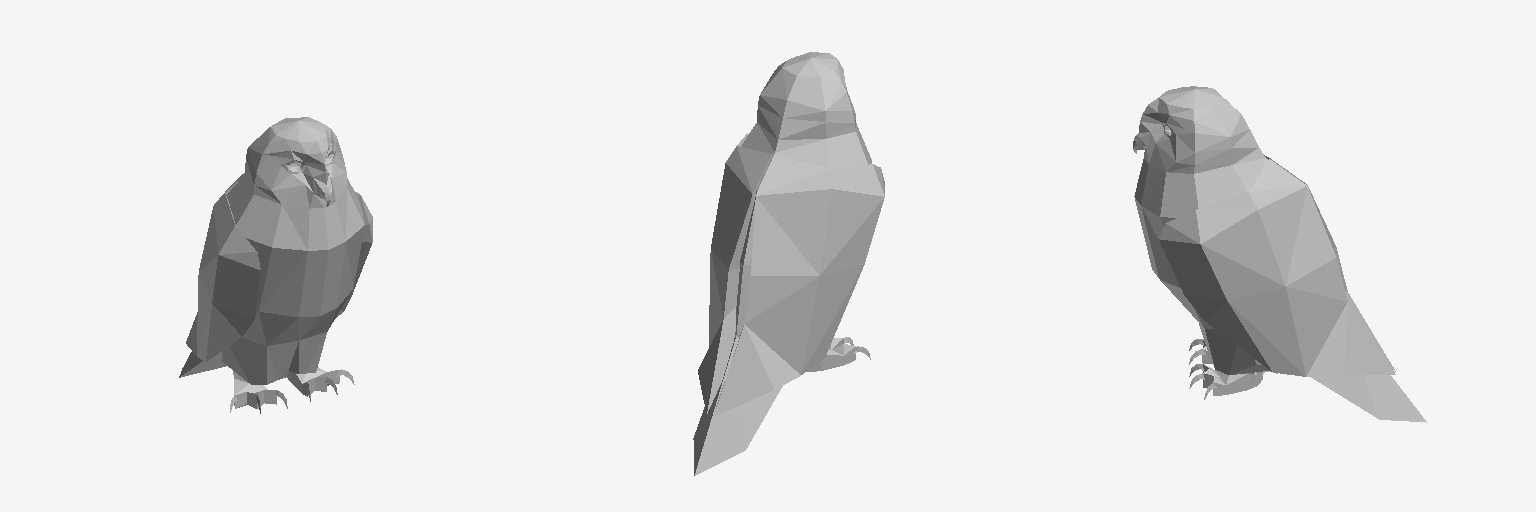
The model's file is snowyOwl_static.obj.
3 views of the same model, side by side, from view 1: azimuth 30°, elevation 25°; view 2: azimuth 150°, elevation 25°; view 3: azimuth 270°, elevation 25° (orthographic).
Parts seen in each view (by area): view 1: Owl1 Owl_Base Head2, wing_down_1 Owl1 wing_down_3, Owl1 foot feet1, Owl1 feet1 foot1, wing_down_5 wing_down_1 Owl1; view 2: wing_down_1 Owl1 wing_down_3, Owl1 Owl_Base Head2, wing_down_5 wing_down_1 Owl1, Owl1 foot feet1; view 3: wing_down_5 wing_down_1 Owl1, Owl1 Owl_Base Head2, Owl1 feet1 foot1, wing_down_1 Owl1 wing_down_3.
Boxes of the visible parts, x1,y1,x2,y2 form: Owl1 Owl_Base Head2: [179, 117, 364, 384]; wing_down_1 Owl1 wing_down_3: [186, 173, 260, 361]; Owl1 foot feet1: [230, 371, 287, 413]; Owl1 feet1 foot1: [286, 367, 354, 401]; wing_down_5 wing_down_1 Owl1: [335, 192, 372, 318]; wing_down_1 Owl1 wing_down_3: [713, 155, 884, 416]; Owl1 Owl_Base Head2: [693, 52, 871, 475]; wing_down_5 wing_down_1 Owl1: [698, 133, 771, 413]; Owl1 foot feet1: [807, 337, 870, 371]; wing_down_5 wing_down_1 Owl1: [1159, 159, 1395, 376]; Owl1 Owl_Base Head2: [1133, 86, 1426, 422]; Owl1 feet1 foot1: [1189, 364, 1277, 399]; wing_down_1 Owl1 wing_down_3: [1264, 155, 1395, 371].
Size of the model in its own units: 0.3544 by 0.73 by 0.5852.